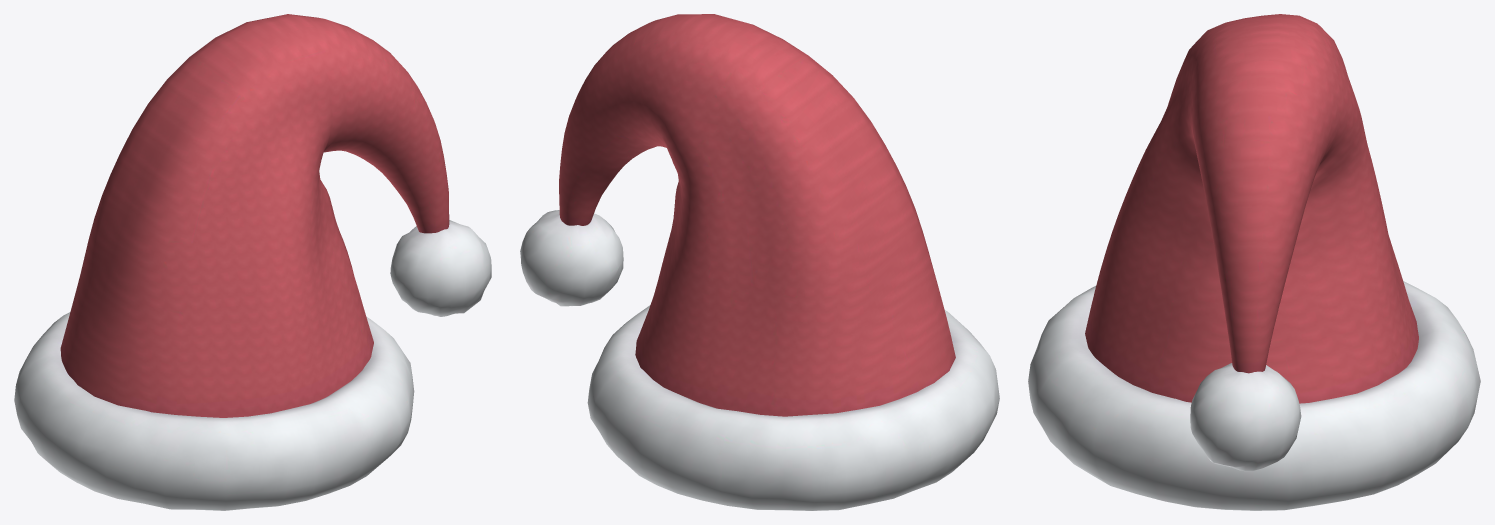
File: santa-hat.glb
The picture shows the model from 3 angles, left to right: view 1: azimuth 30°, elevation 25°; view 2: azimuth 150°, elevation 25°; view 3: azimuth 270°, elevation 25°; orthographic projection. The views are drawn at different scales.
Parts seen in each view (by area): view 1: santa-hat_body; view 2: santa-hat_body; view 3: santa-hat_body.
Boxes of the visible parts, x1,y1,x2,y2 form: santa-hat_body: (14, 14, 491, 510); santa-hat_body: (520, 14, 999, 510); santa-hat_body: (1028, 14, 1480, 510).
Bounding box in the file's own units: 0.3187 × 0.2719 × 0.2515.
1 material, 1 textured.
